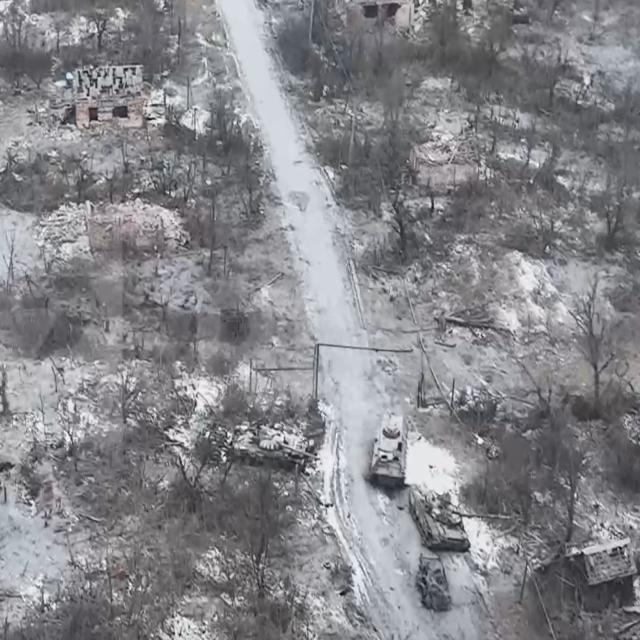APC: (408, 486, 516, 551), (369, 411, 412, 491)
Destroyed: (413, 553, 455, 614)
MBT: (228, 421, 324, 473)
